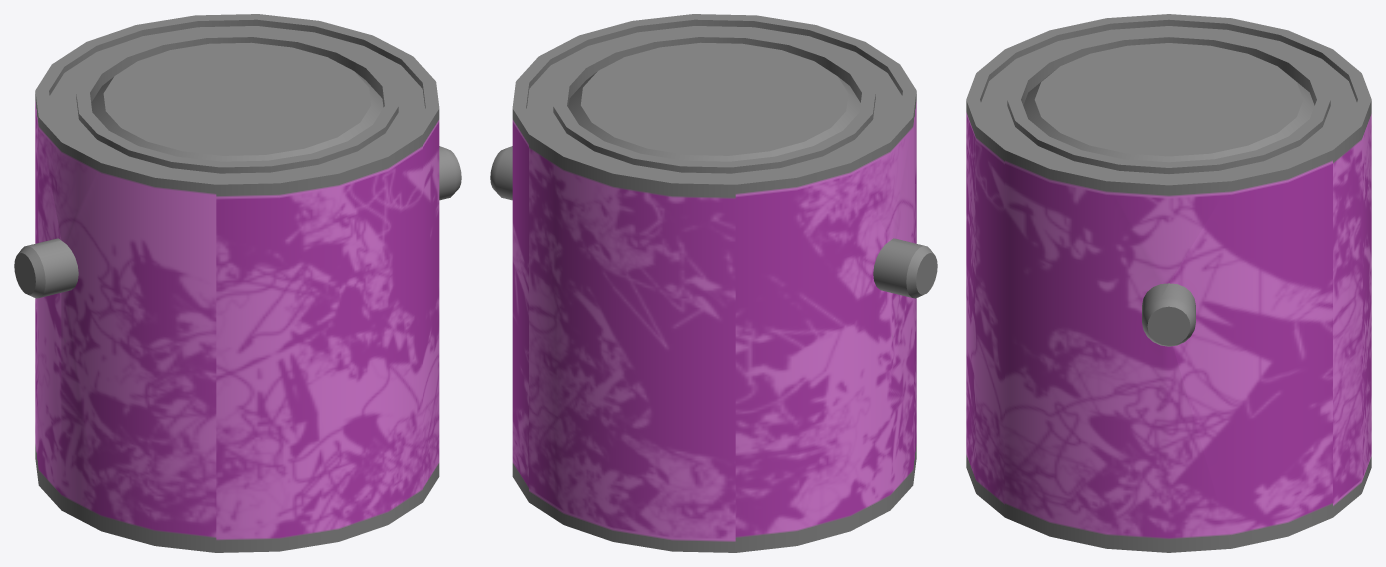
The model's file is Paint_can_01 1.fbx.
3 views of the same model, side by side, from view 1: azimuth 30°, elevation 25°; view 2: azimuth 150°, elevation 25°; view 3: azimuth 270°, elevation 25° (orthographic).
Parts seen in each view (by area): view 1: pCylinder4; view 2: pCylinder4; view 3: pCylinder4.
Part boxes in pixels (x1,y1,x2,y2): pCylinder4: (14,14,461,552); pCylinder4: (490,14,937,552); pCylinder4: (966,14,1371,552).
Size of the model in its own units: 36.3 by 30 by 30.
1 material, 1 textured.
